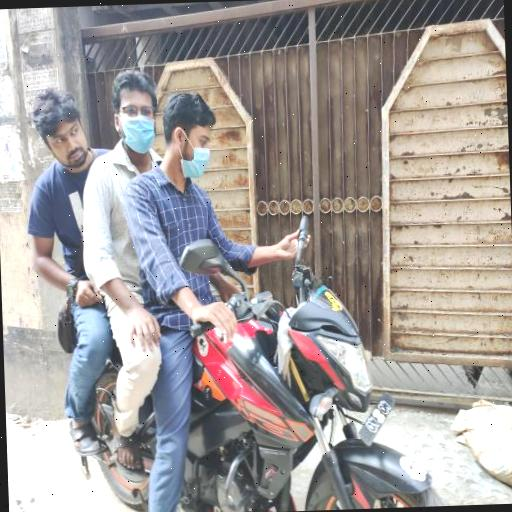no helmet: (161, 81, 232, 195)
triple riding: (26, 62, 441, 512)
